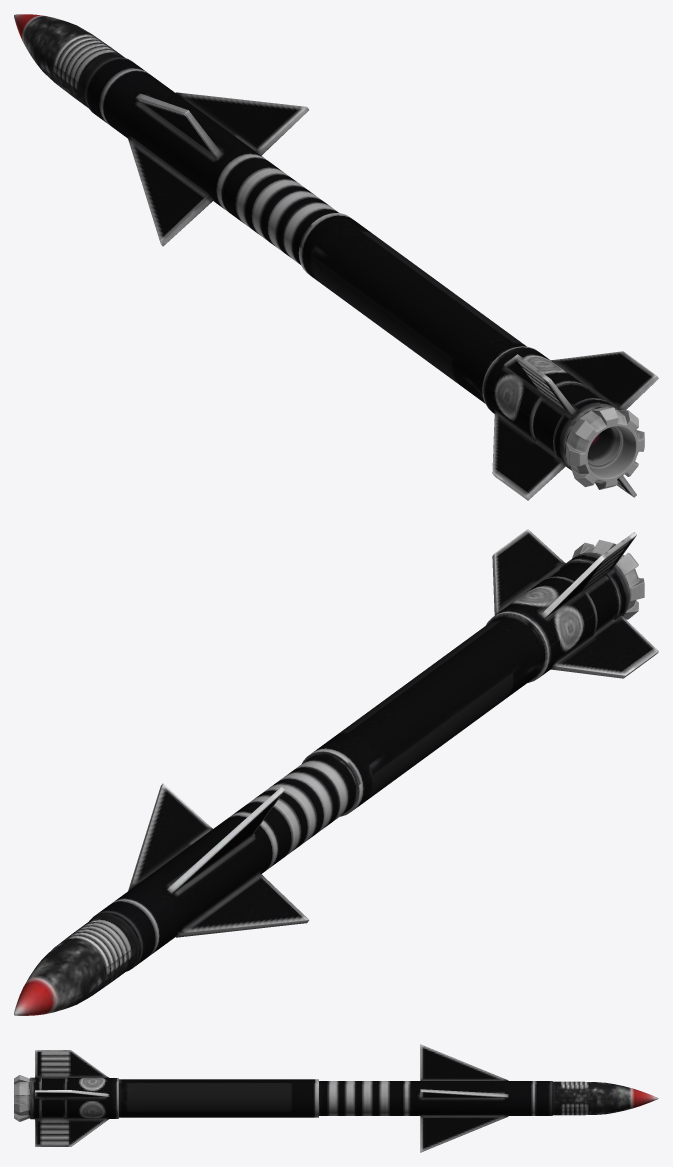
File: w_atacms.glb
3 views of the same model, one above another, from view 1: azimuth 30°, elevation 25°; view 2: azimuth 150°, elevation 25°; view 3: azimuth 270°, elevation 25° (orthographic). The views are drawn at different scales.
Visible parts, largest first — view 1: body|material; view 2: body|material; view 3: body|material.
Boxes of the visible parts, left/top/right/bottom form: body|material: left=14, top=14, right=658, bottom=500; body|material: left=14, top=529, right=658, bottom=1015; body|material: left=14, top=1044, right=658, bottom=1152.
Bounding box in the file's own units: 0.6071 × 0.6071 × 4.23.
Materials: 1 (1 with a texture image).
